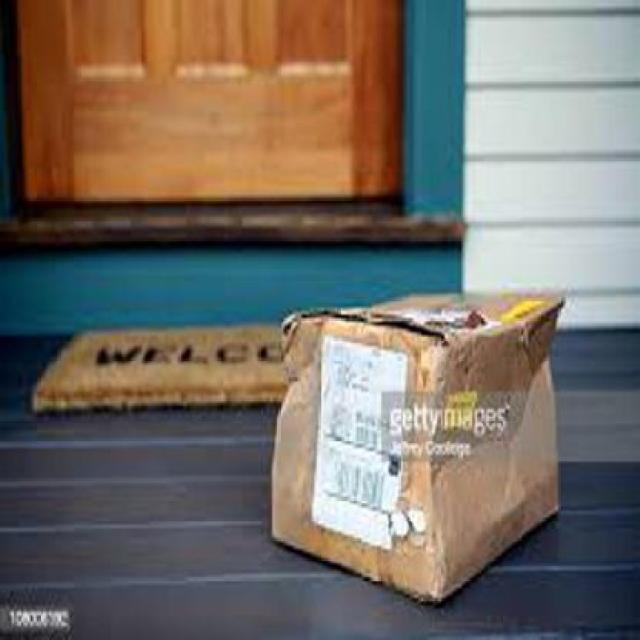defect: (260, 276, 572, 610)
